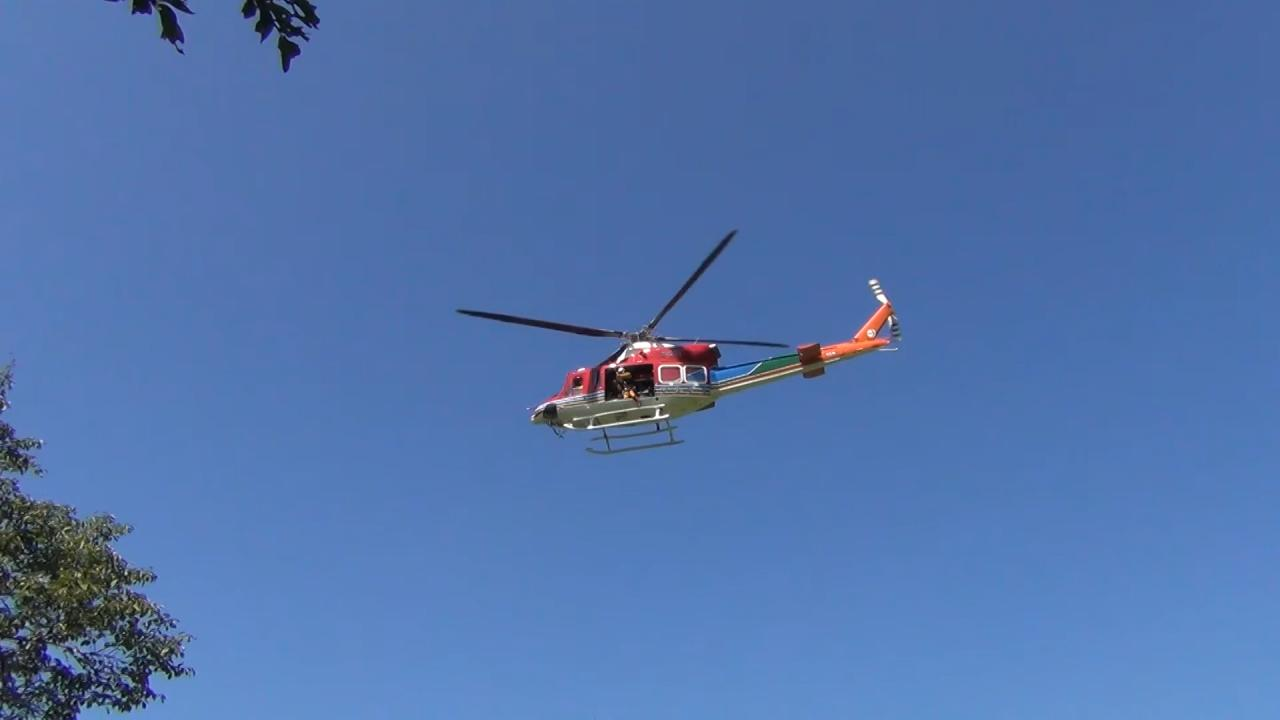Helicopter: (410, 192, 939, 480)
